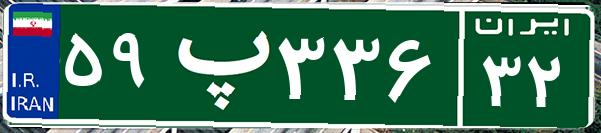2: (525, 38, 570, 115)
3: (273, 28, 330, 110), (330, 28, 385, 110), (475, 38, 525, 113)
5: (57, 26, 110, 107)
6: (385, 28, 445, 110)
9: (110, 28, 158, 105)
پ: (158, 15, 273, 115)
